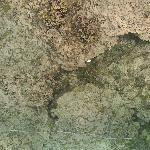dead: (1, 1, 147, 149)
